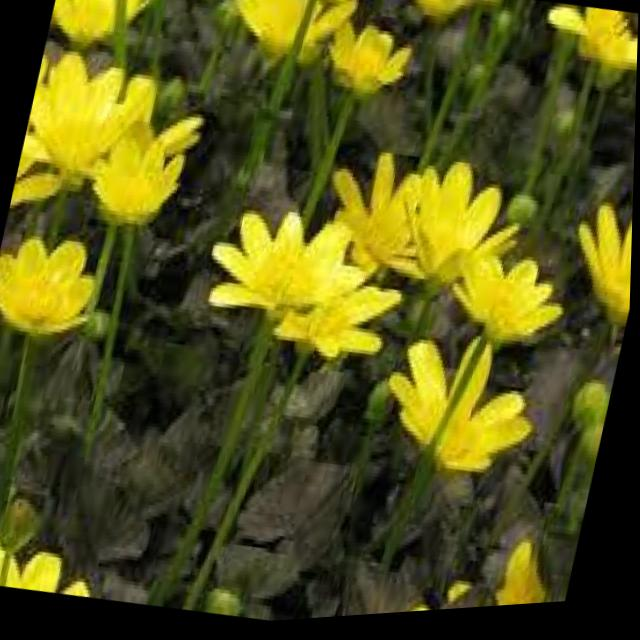Flower: (307, 132, 534, 319), (367, 309, 554, 497), (16, 43, 184, 206), (205, 192, 374, 329), (250, 245, 402, 387), (446, 233, 564, 357), (0, 229, 112, 348), (87, 119, 197, 232), (314, 20, 425, 116), (543, 6, 639, 99)
